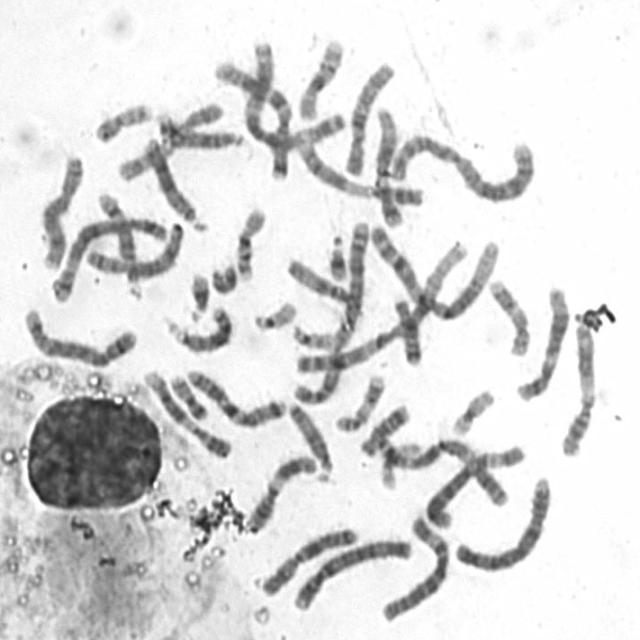A1: (283, 232, 488, 388), (364, 217, 502, 321)
A2: (288, 212, 374, 406), (384, 124, 539, 204)
A3: (209, 51, 350, 149), (372, 430, 515, 508)
B4: (449, 467, 555, 573), (287, 530, 416, 612)
B5: (44, 208, 176, 304), (16, 300, 140, 369)
C10: (112, 94, 225, 183), (337, 53, 398, 177)
C11: (238, 447, 318, 536), (554, 314, 600, 458)
C12: (510, 278, 572, 402), (368, 100, 406, 228)
C6: (420, 436, 528, 530), (374, 506, 453, 624)
C7: (240, 33, 294, 181), (179, 361, 289, 429)
C8: (80, 212, 186, 280), (32, 145, 86, 271)
C9: (289, 132, 428, 208), (136, 362, 235, 461)
D13: (136, 131, 209, 233), (162, 298, 234, 355)
D14: (91, 184, 146, 292), (153, 106, 248, 150)
D15: (282, 251, 368, 322), (280, 392, 336, 484)
E16: (292, 30, 348, 122), (229, 198, 269, 282)
E17: (482, 270, 534, 358), (328, 366, 388, 434)
E18: (354, 397, 413, 458), (385, 290, 424, 366)
F19: (444, 380, 498, 438), (374, 433, 424, 491)
F20: (88, 94, 155, 144), (162, 367, 211, 422)
G21: (181, 264, 212, 323), (322, 229, 350, 282)
G22: (246, 292, 299, 332), (286, 315, 338, 351)
X: (253, 518, 361, 598)
